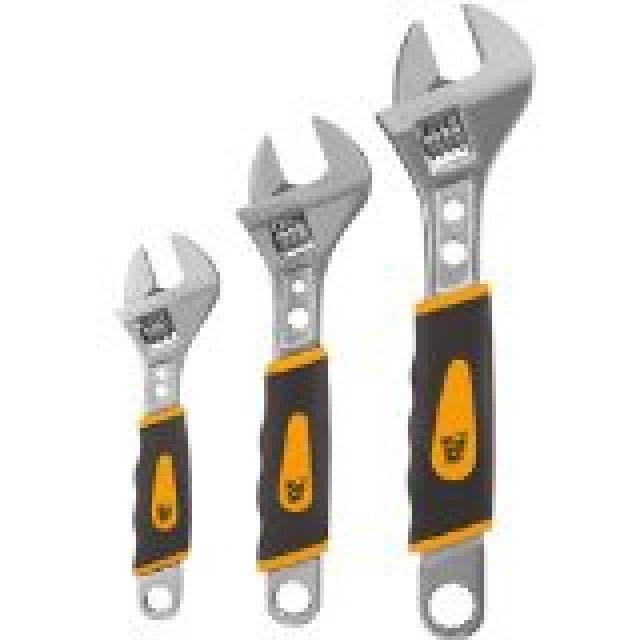wrench: (372, 0, 542, 638), (230, 107, 380, 634), (105, 224, 225, 626)
